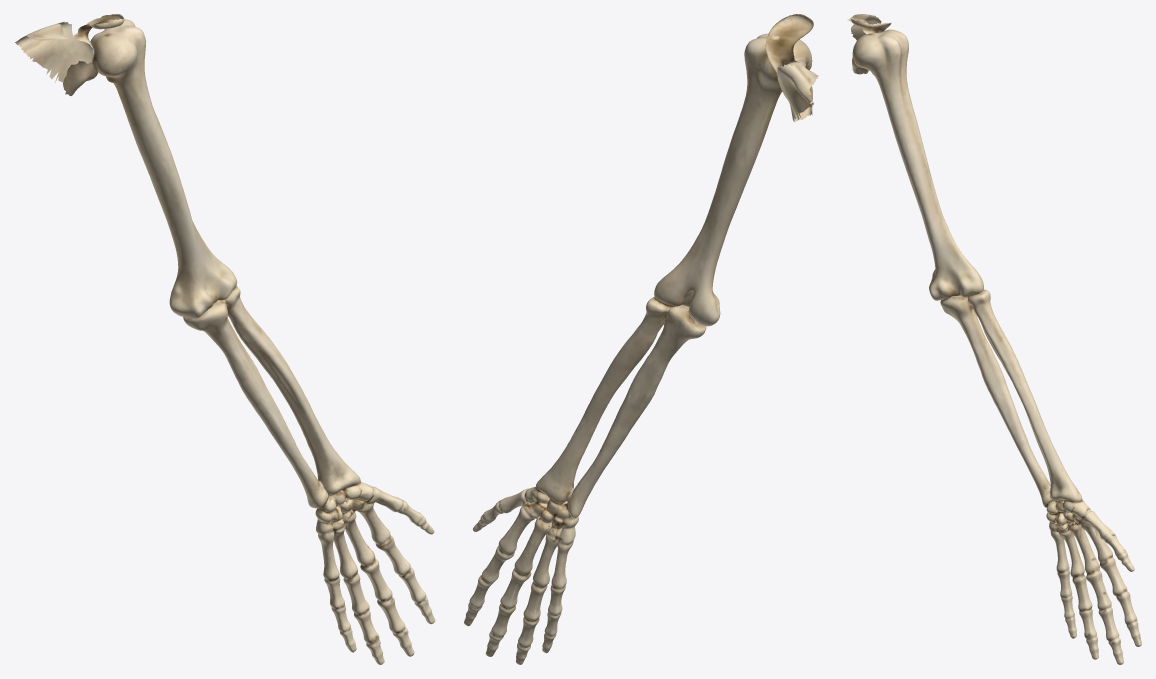
File: BrazoIzq.obj
3 renders of one model, left to right at view 1: azimuth 30°, elevation 25°; view 2: azimuth 150°, elevation 25°; view 3: azimuth 330°, elevation 25°, orthographic. The views are drawn at different scales.
Parts seen in each view (by area): view 1: BrazoIzq; view 2: BrazoIzq; view 3: BrazoIzq.
Part boxes in pixels (<box>): BrazoIzq: <box>15,14,435,664</box>; BrazoIzq: <box>464,14,818,664</box>; BrazoIzq: <box>847,14,1141,664</box>.
Bounding box in the file's own units: 0.4089 × 0.7274 × 0.092.
Materials: 1 (1 with a texture image).
